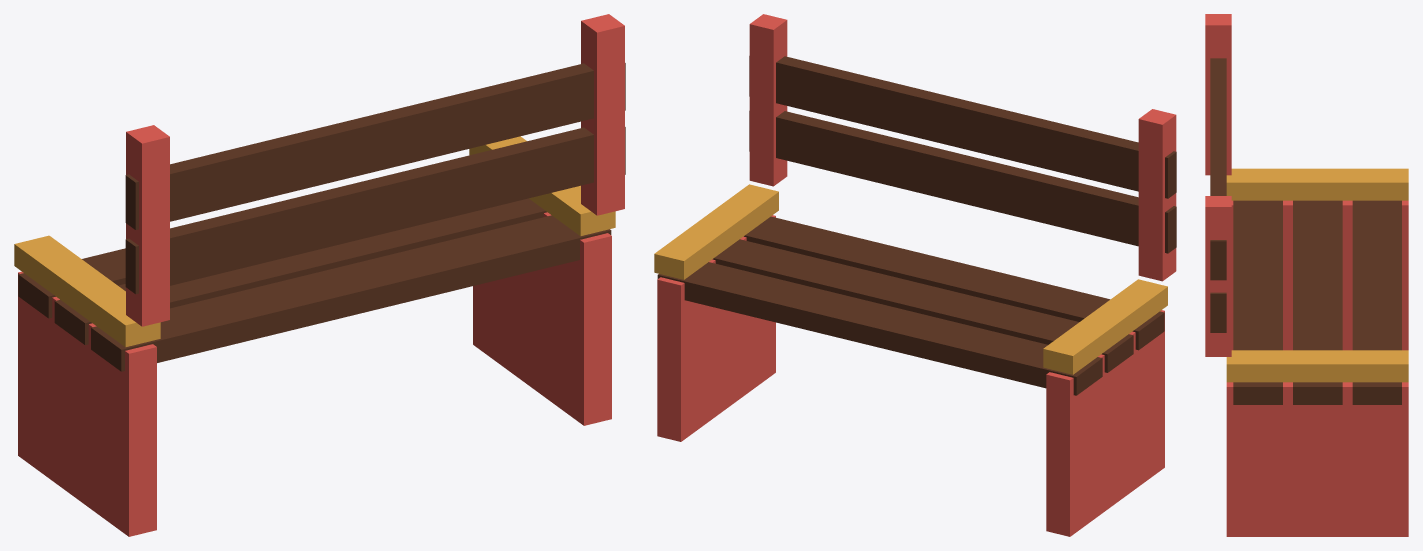
File: ParkParkDecorBench.obj
3 renders of one model, left to right at view 1: azimuth 30°, elevation 25°; view 2: azimuth 150°, elevation 25°; view 3: azimuth 270°, elevation 25°, orthographic. The views are drawn at different scales.
Parts seen in each view (by area): view 1: ParkParkDecorBench; view 2: ParkParkDecorBench; view 3: ParkParkDecorBench.
Boxes of the visible parts, x1,y1,x2,y2 form: ParkParkDecorBench: [14, 14, 625, 536]; ParkParkDecorBench: [654, 14, 1176, 536]; ParkParkDecorBench: [1205, 14, 1408, 536].
Bounding box in the file's own units: 2.8 × 2.2 × 1.23.
